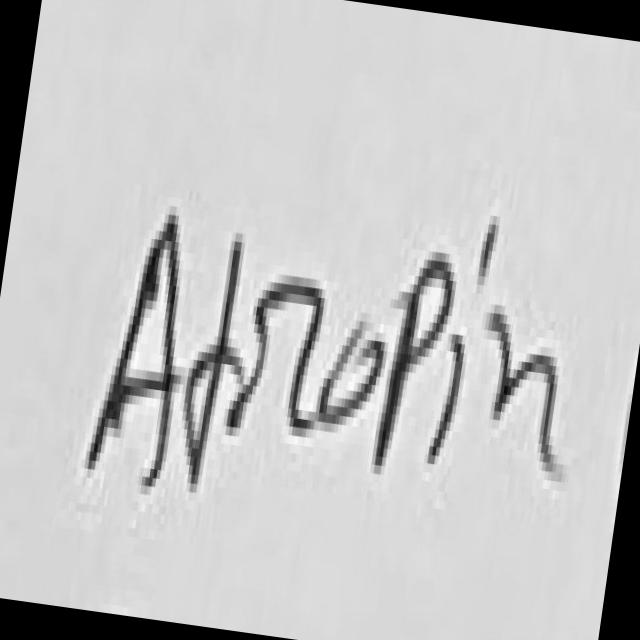A: (88, 215, 180, 483)
i: (431, 335, 467, 461), (481, 225, 497, 282)
n: (492, 315, 559, 471)
o: (320, 321, 387, 422)
p: (379, 261, 456, 462)
r: (227, 283, 324, 436)
t: (191, 242, 244, 493)
